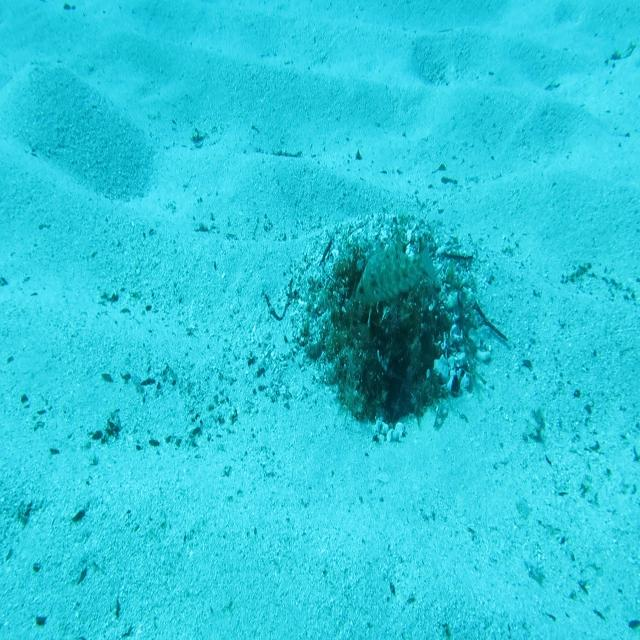NIP_IN: (350, 239, 439, 307)
core_nest: (358, 265, 409, 315)
nest: (280, 202, 506, 455)
